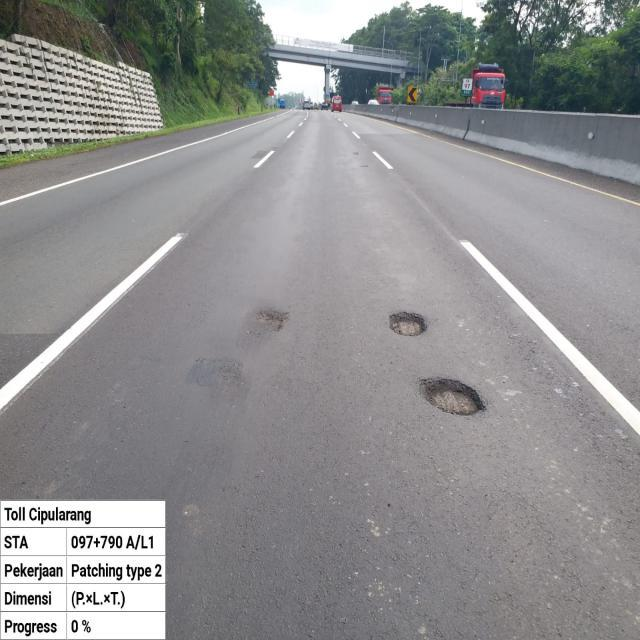Buraco: (416, 376, 488, 418), (387, 310, 429, 338), (252, 307, 292, 335)
